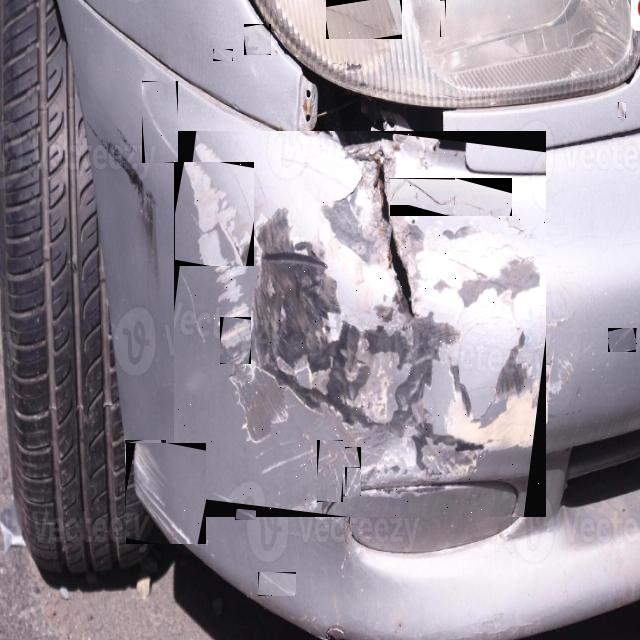Scratch: (197, 144, 526, 500), (184, 162, 241, 265), (135, 443, 192, 543), (418, 178, 494, 215), (142, 82, 177, 158), (125, 448, 165, 501), (389, 179, 454, 204), (159, 504, 198, 543), (174, 303, 207, 349), (326, 6, 383, 30), (220, 320, 250, 363), (320, 440, 341, 501), (280, 460, 327, 481), (260, 573, 295, 595), (244, 26, 270, 54), (345, 450, 360, 495), (327, 460, 342, 499), (611, 328, 633, 351), (347, 468, 359, 495), (616, 328, 635, 343), (237, 509, 255, 519), (214, 49, 230, 60), (440, 1, 445, 34), (619, 102, 625, 117)
